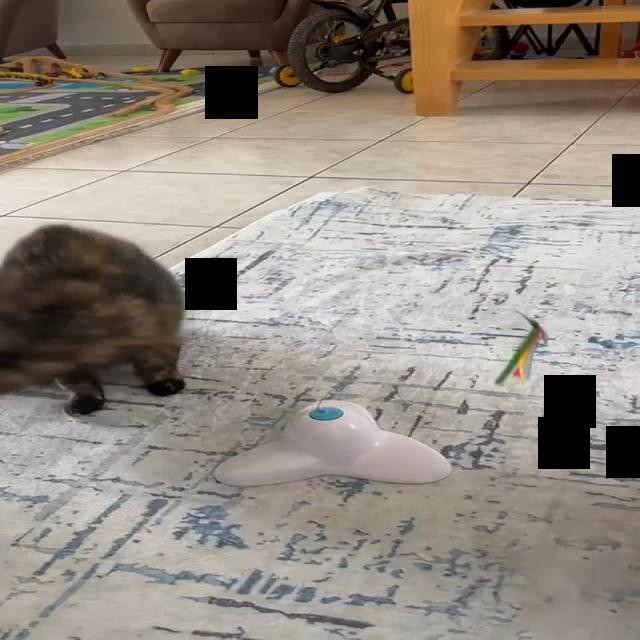authorized: (0, 222, 188, 416)
